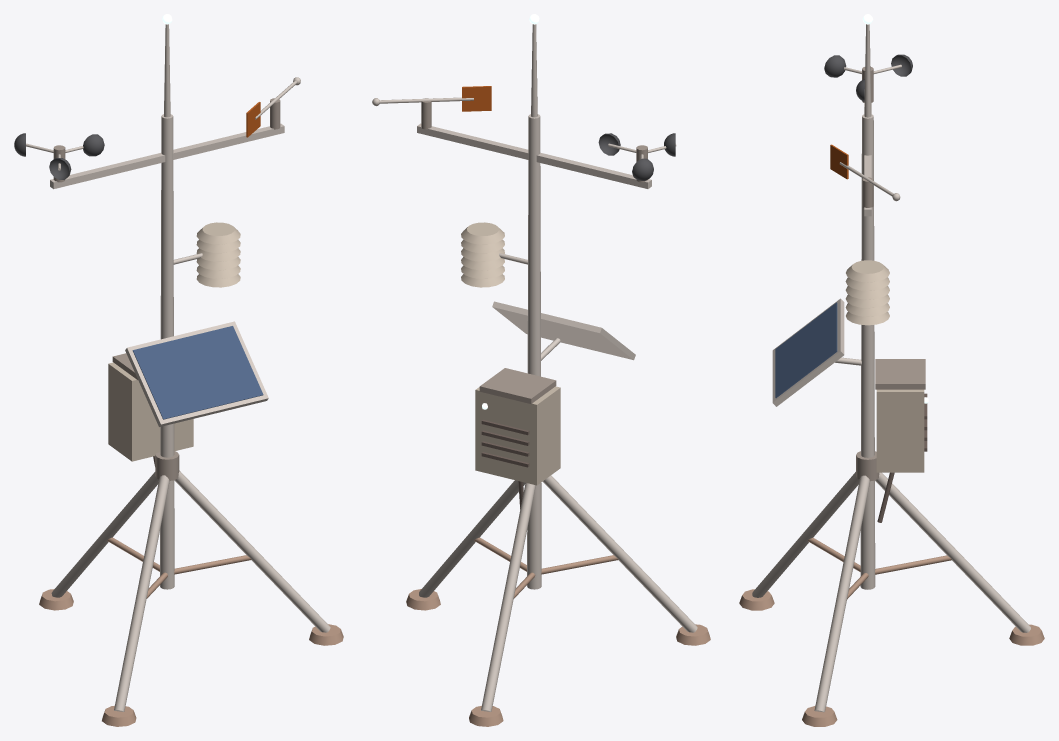
File: D22_weather_station.glb
3 views of the same model, side by side, from view 1: azimuth 30°, elevation 25°; view 2: azimuth 150°, elevation 25°; view 3: azimuth 270°, elevation 25° (orthographic).
Parts seen in each view (by area): view 1: cells, tripod_leg (×3), mast, instrument_box, crossarm, panel_frame, tripod_foot (×2), shield_plate, tripod_hub, wind_vane, antenna; view 2: tripod_leg (×3), instrument_box, mast, panel_frame, crossarm, box_lid, shield_plate, vane_tail, wind_vane, tripod_foot, antenna; view 3: tripod_leg (×3), mast, instrument_box, cells, tripod_foot (×3), box_lid, panel_frame, shield_plate, wind_vane, antenna, tripod_hub.
Part boxes in pixels (left/top/right/bottom): cells: left=132, top=326, right=263, bottom=419; tripod_leg (×3): left=51, top=470, right=330, bottom=711; mast: left=160, top=114, right=174, bottom=589; instrument_box: left=108, top=362, right=193, bottom=461; crossarm: left=50, top=123, right=284, bottom=189; panel_frame: left=125, top=321, right=268, bottom=426; tripod_foot (×2): left=102, top=624, right=343, bottom=726; shield_plate: left=196, top=222, right=240, bottom=244; tripod_hub: left=155, top=451, right=179, bottom=480; wind_vane: left=255, top=77, right=300, bottom=129; antenna: left=164, top=24, right=170, bottom=117; tripod_leg (×3): left=419, top=475, right=697, bottom=711; instrument_box: left=475, top=386, right=560, bottom=485; mast: left=527, top=114, right=541, bottom=589; panel_frame: left=492, top=301, right=635, bottom=360; crossarm: left=417, top=123, right=651, bottom=188; box_lid: left=479, top=368, right=556, bottom=403; shield_plate: left=461, top=222, right=504, bottom=244; vane_tail: left=462, top=86, right=491, bottom=111; wind_vane: left=372, top=97, right=473, bottom=129; tripod_foot: left=469, top=705, right=503, bottom=726; antenna: left=531, top=24, right=537, bottom=117; tripod_leg (×3): left=752, top=472, right=1030, bottom=712; mast: left=860, top=114, right=875, bottom=589; instrument_box: left=876, top=389, right=924, bottom=472; cells: left=775, top=302, right=837, bottom=398; tripod_foot (×3): left=739, top=589, right=1044, bottom=726; box_lid: left=875, top=359, right=925, bottom=389; panel_frame: left=772, top=298, right=844, bottom=406; shield_plate: left=846, top=260, right=889, bottom=282; wind_vane: left=839, top=162, right=900, bottom=207; antenna: left=864, top=24, right=871, bottom=117; tripod_hub: left=856, top=451, right=879, bottom=481.
Bounding box in the file's own units: 1.11 × 2.38 × 1.03.
